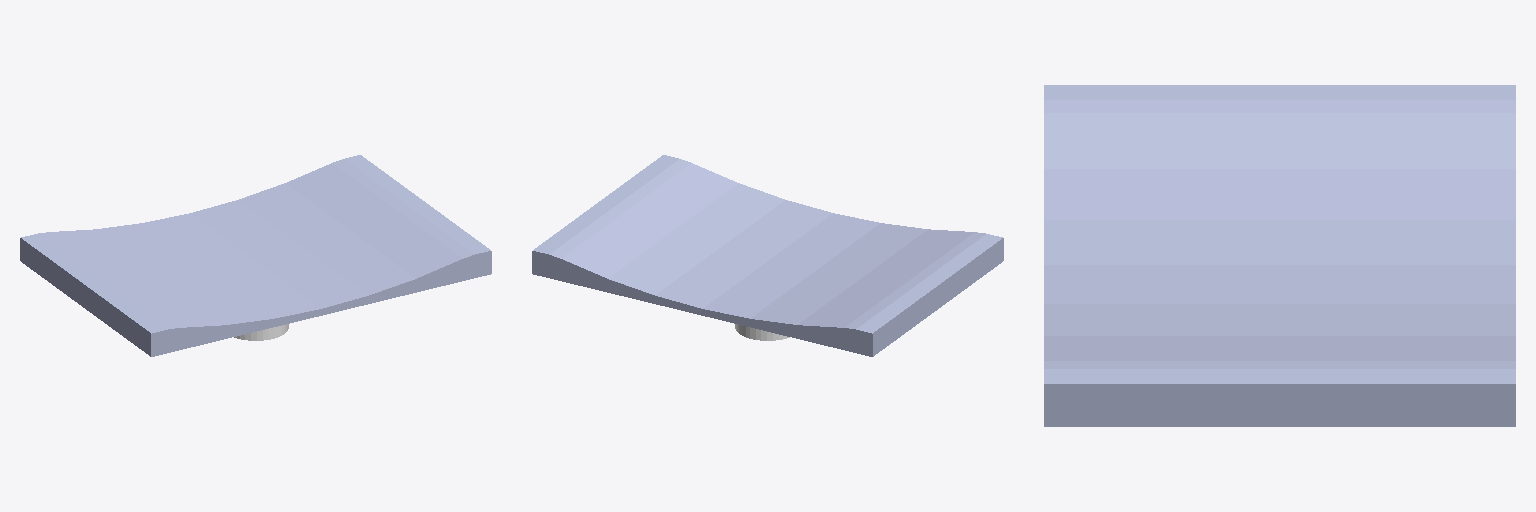
The robot description file, URDF, robot "unknown_surface":
<?xml version="1.0" encoding="utf-8"?>
<!-- This URDF was automatically created by SolidWorks to URDF Exporter! Originally created by [author] ([email redacted]) 
     Commit Version: 1.5.1-0-g916b5db  Build Version: 1.5.7152.31018
     For more information, please see http://wiki.ros.org/sw_urdf_exporter -->
<robot
  name="unknown_surface">
  <link
    name="base_link">
    <inertial>
      <origin
        xyz="-4.8727E-19 0 0.025"
        rpy="0 0 0" />
      <mass
        value="0.098175" />
      <inertia
        ixx="3.5793E-05"
        ixy="0"
        ixz="-2.8685E-37"
        iyy="3.5793E-05"
        iyz="-1.1857E-37"
        izz="3.068E-05" />
    </inertial>
    <visual>
      <origin
        xyz="0 0 0"
        rpy="0 0 0" />
      <geometry>
        <mesh
          filename="package://unknown_surface/meshes/base_link.STL" />
      </geometry>
      <material
        name="">
        <color
          rgba="1 1 1 1" />
      </material>
    </visual>
    <collision>
      <origin
        xyz="0 0 0"
        rpy="0 0 0" />
      <geometry>
        <mesh
          filename="package://unknown_surface/meshes/base_link.STL" />
      </geometry>
    </collision>
  </link>
  <link
    name="my_Link">
    <inertial>
      <origin
        xyz="-5.847E-17 3.8124E-17 0.0069755"
        rpy="0 0 0" />
      <mass
        value="0.70432" />
      <inertia
        ixx="0.007332"
        ixy="1.4008E-18"
        ixz="7.9025E-19"
        iyy="0.0023652"
        iyz="9.4998E-18"
        izz="0.0096623" />
    </inertial>
    <visual>
      <origin
        xyz="0 0 0"
        rpy="0 0 0" />
      <geometry>
        <mesh
          filename="package://unknown_surface/meshes/my_Link.STL" />
      </geometry>
      <material
        name="">
        <color
          rgba="0.79216 0.81961 0.93333 1" />
      </material>
    </visual>
    <collision>
      <origin
        xyz="0 0 0"
        rpy="0 0 0" />
      <geometry>
        <mesh
          filename="package://unknown_surface/meshes/my_Link.STL" />
      </geometry>
    </collision>
  </link>
  <joint
    name="my_joint"
    type="fixed">
    <origin
      xyz="0 0 0.05"
      rpy="0 0 1.5708" />
    <parent
      link="base_link" />
    <child
      link="my_Link" />
    <axis
      xyz="0 0 0" />
  </joint>
</robot>

--- What the picture shows (computed from the rendered views, not written in the file) ---
3 views of the same robot in one strip: view 1: azimuth 30°, elevation 25°; view 2: azimuth 150°, elevation 25°; view 3: azimuth 270°, elevation 25° (orthographic).
Model unknown_surface with 2 links and 1 joints (1 fixed), rooted at base_link, posed every joint at zero.
Visible links, largest first — view 1: my_Link; view 2: my_Link; view 3: my_Link.
Boxes of the visible links, box(x1,y1,x2,y2) form: my_Link: box(20, 155, 491, 356); my_Link: box(532, 155, 1003, 356); my_Link: box(1044, 85, 1515, 426).
Size in the robot's own frame: 0.3 by 0.2 by 0.07 metres.
2 mesh visuals loaded from 2 distinct referenced files (2 binary STL).